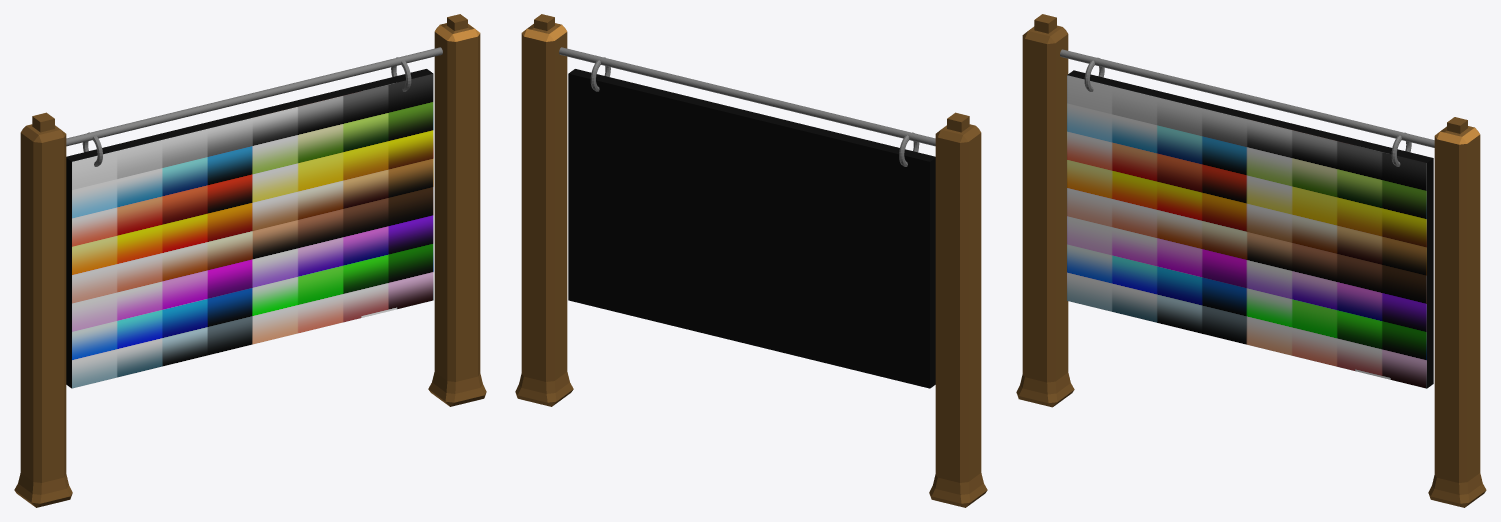
Rendered from TriviaBoard.fbx.
3 views of the same model, side by side, from view 1: azimuth 30°, elevation 25°; view 2: azimuth 150°, elevation 25°; view 3: azimuth 330°, elevation 25° (orthographic).
Visible parts, largest first — view 1: TriviaBoard; view 2: TriviaBoard; view 3: TriviaBoard.
Part boxes in pixels (left/top/right/bottom): TriviaBoard: left=14, top=14, right=486, bottom=507; TriviaBoard: left=515, top=14, right=987, bottom=507; TriviaBoard: left=1016, top=14, right=1486, bottom=507.
Bounding box in the file's own units: 4.07 × 3.24 × 0.3686.
